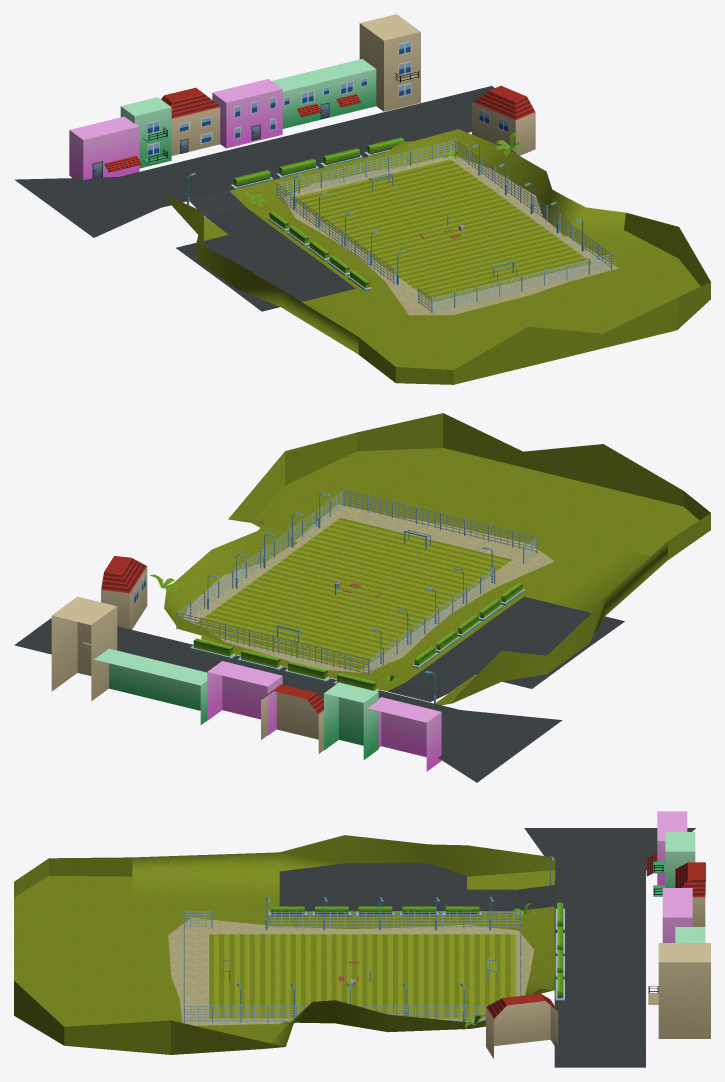
File: sockerfield_1.fbx
3 renders of one model, top to bottom at view 1: azimuth 30°, elevation 25°; view 2: azimuth 150°, elevation 25°; view 3: azimuth 270°, elevation 25°, orthographic. The views are drawn at different scales.
Visible parts, largest first — view 1: polySurface5, polySurface3, pPlane7, polySurface1, polySurface6, pCube24, pCube19, pCube18, pCube15, pCube43, pCube16, polySurface66 (+4 smaller); view 2: polySurface5, polySurface3, pPlane7, polySurface1, polySurface6, pCube24, pCube19, pCube15, pCube18, pCube17, pCube16, pCube43 (+4 smaller); view 3: polySurface5, polySurface3, pPlane7, polySurface6, polySurface1, pCube24, pCube43, polySurface48, polySurface67, pCube15, pCube16, pCube17 (+3 smaller).
Part boxes in pixels (x1,y1,x2,y2): polySurface5: (163,129,710,384); polySurface3: (291,159,591,301); pPlane7: (14,86,494,237); polySurface1: (283,156,618,315); polySurface6: (176,191,355,311); pCube24: (359,14,420,111); pCube19: (272,59,376,128); pCube18: (69,116,139,180); pCube15: (212,79,282,148); pCube43: (472,85,535,155); pCube16: (161,87,220,155); polySurface66: (418,254,611,313); polySurface5: (164,413,710,705); polySurface3: (195,518,511,671); pPlane7: (14,618,562,782); polySurface1: (183,504,554,672); polySurface6: (387,596,624,701); pCube24: (51,596,117,701); pCube19: (94,648,207,724); pCube15: (207,661,282,735); pCube18: (368,697,441,771); pCube17: (324,682,378,759); pCube16: (261,684,323,753); pCube43: (101,556,147,629); polySurface5: (14,835,555,1054); polySurface3: (209,934,515,1018); pPlane7: (524,828,695,1067); polySurface6: (279,863,554,911); polySurface1: (168,917,534,1025); pCube24: (658,943,710,1038); pCube43: (486,993,558,1058); polySurface48: (267,910,520,928); polySurface67: (183,1004,486,1022); pCube15: (662,888,692,942); pCube16: (675,862,705,926); pCube17: (665,832,695,887).
Size of the model in its own units: 790 by 118 by 972.
